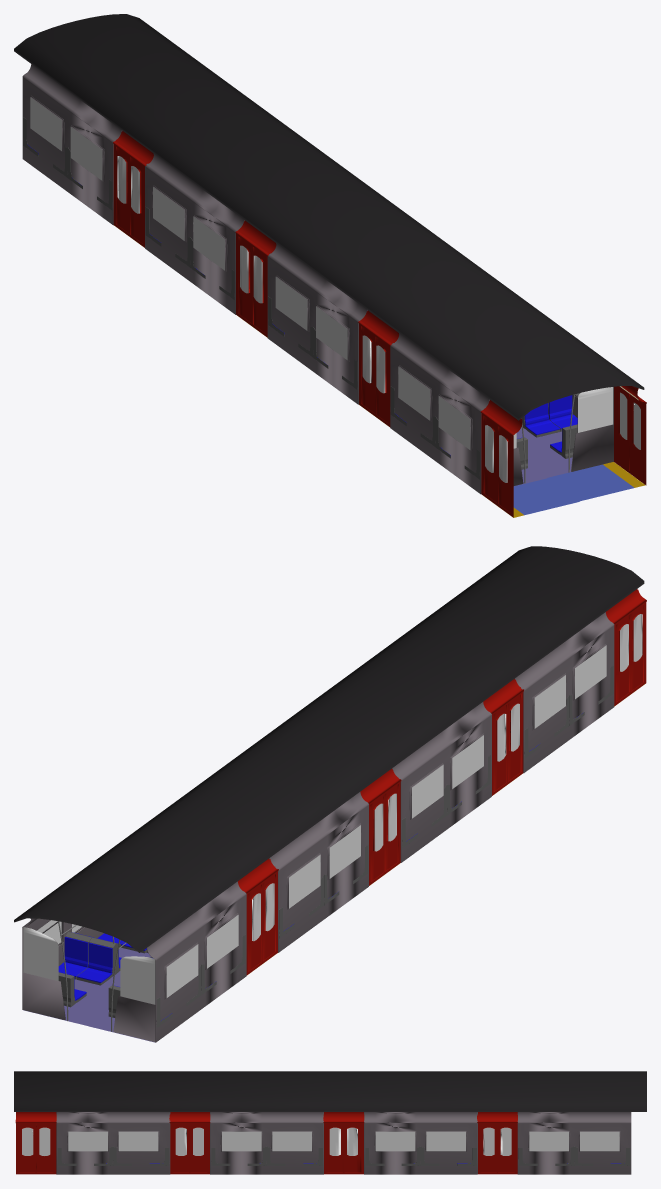
Rendered from SBAHNINNEN.fbx_Collection.fbx.
The picture shows the model from 3 angles, top to bottom: view 1: azimuth 30°, elevation 25°; view 2: azimuth 150°, elevation 25°; view 3: azimuth 270°, elevation 25°; orthographic projection. The views are drawn at different scales.
Visible parts, largest first — view 1: Decke, Wände, Doors, FensterInnen, Floor, Seats; view 2: Decke, Wände, Doors, FensterInnen, Seats, Floor; view 3: Decke, Wände, Doors, FensterInnen, Seats.
Part boxes in pixels (x1,y1,x2,y2): Decke: (14, 14, 644, 420); Wände: (22, 64, 613, 494); Doors: (113, 131, 646, 517); FensterInnen: (30, 97, 613, 449); Floor: (114, 225, 645, 517); Seats: (23, 117, 577, 479); Decke: (14, 546, 644, 952); Wände: (22, 612, 614, 1042); Doors: (238, 589, 646, 975); FensterInnen: (23, 645, 606, 1004); Seats: (58, 665, 613, 1027); Floor: (23, 684, 644, 1042); Decke: (14, 1071, 646, 1111); Wände: (56, 1112, 631, 1174); Doors: (15, 1112, 517, 1174); FensterInnen: (68, 1131, 619, 1151); Seats: (57, 1146, 630, 1165).
Size of the model in its own units: 430 by 341 by 2757.
